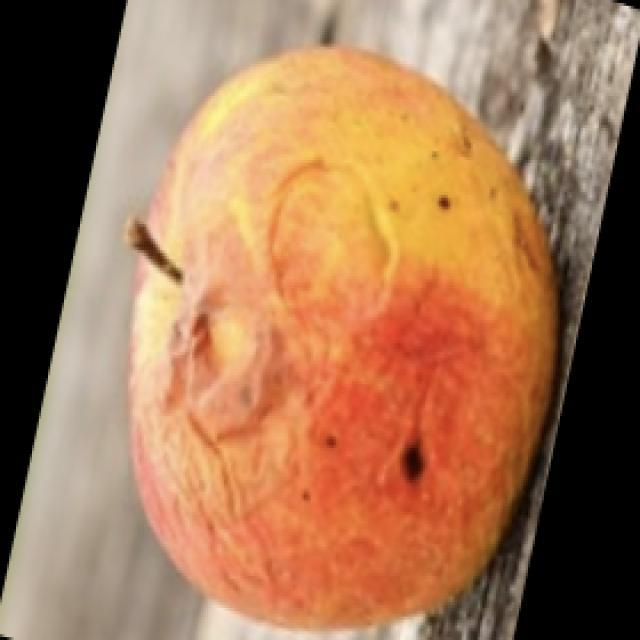Rotten: (136, 43, 554, 640)
